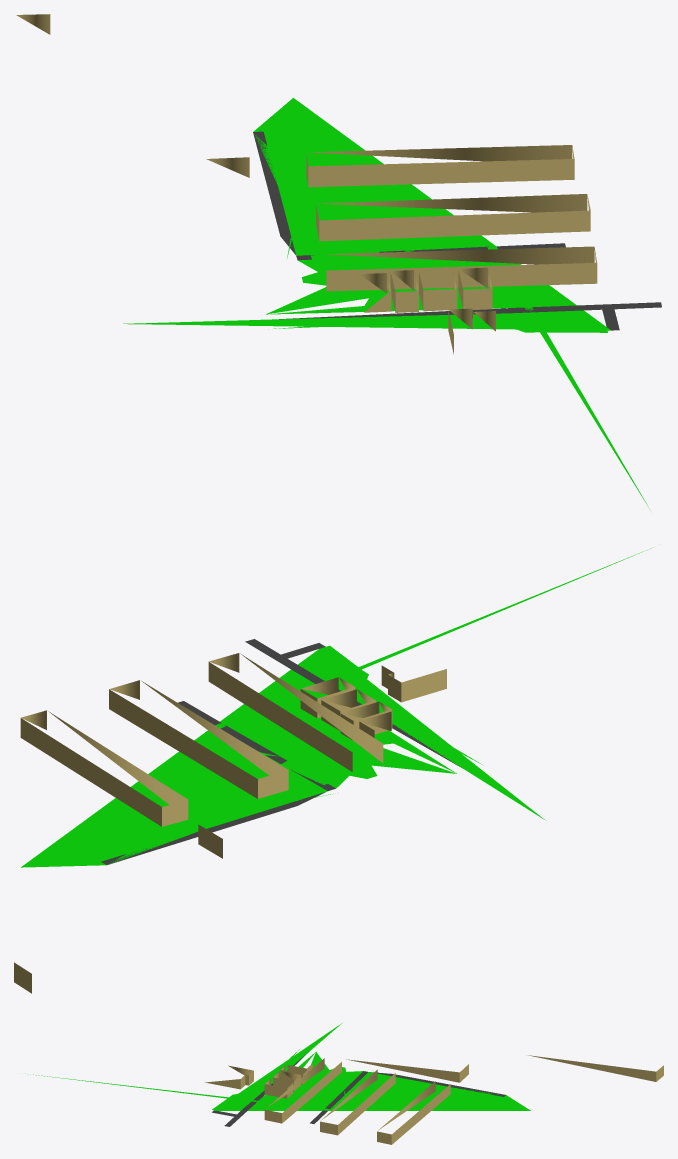
The picture shows the model from 3 angles, top to bottom: view 1: azimuth 30°, elevation 25°; view 2: azimuth 150°, elevation 25°; view 3: azimuth 270°, elevation 25°; orthographic projection. The views are drawn at different scales.
Bounding box in the file's own units: 189 × 7.5 × 422.
